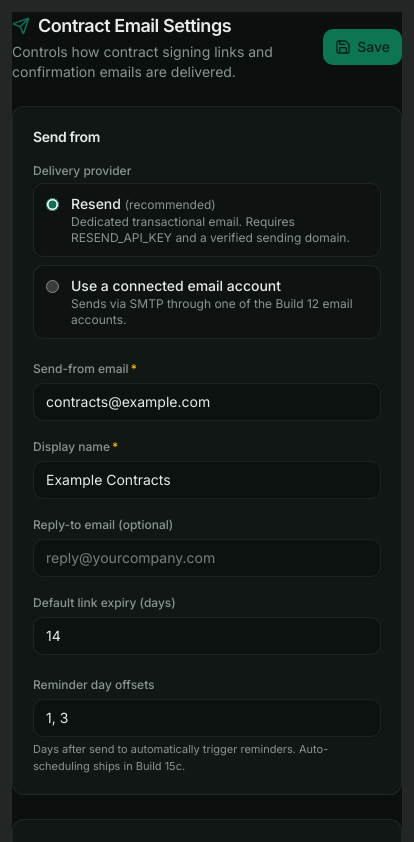
it: OutgoingEmailEditor — contract kind › disables Save until a field is edited
The image size is (414, 842).
Expected: the button "Save" is disabled, [323,29,402,65]
Step 1. Replace the text in the field showing "contracts@example.com" below "Send-from email" with "new@example.com" → (207, 402), box [33,383,381,421]
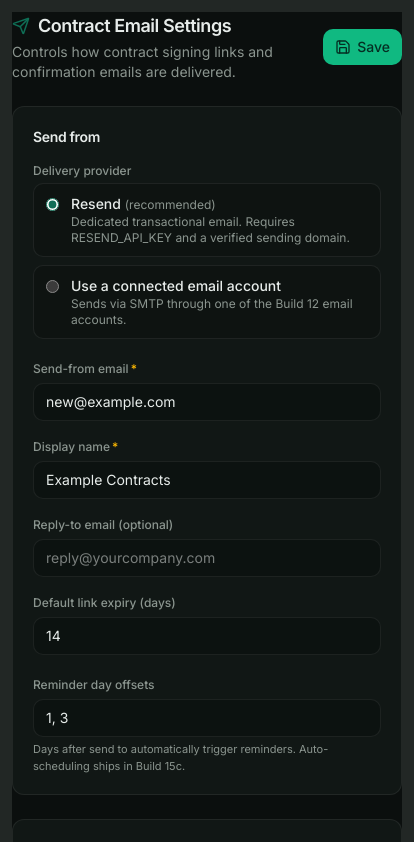
Expected: the button "Save" is enabled, [323,29,402,65]
